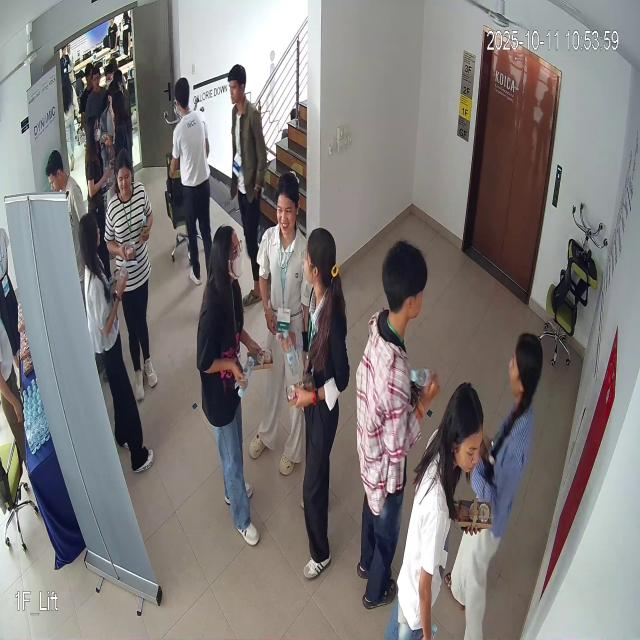face: (272, 168, 300, 238), (114, 148, 138, 202), (228, 61, 248, 108)
